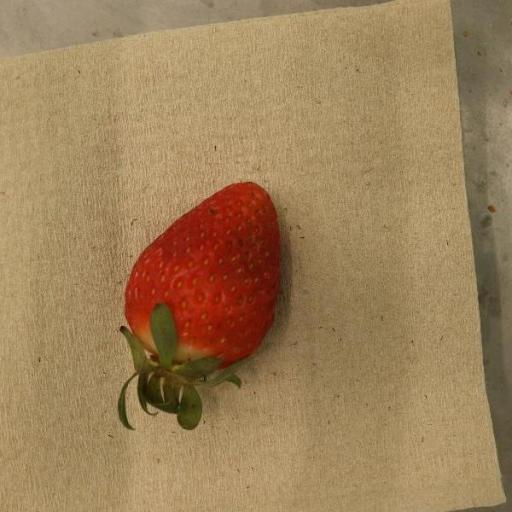Strawberry: (117, 182, 281, 433)
